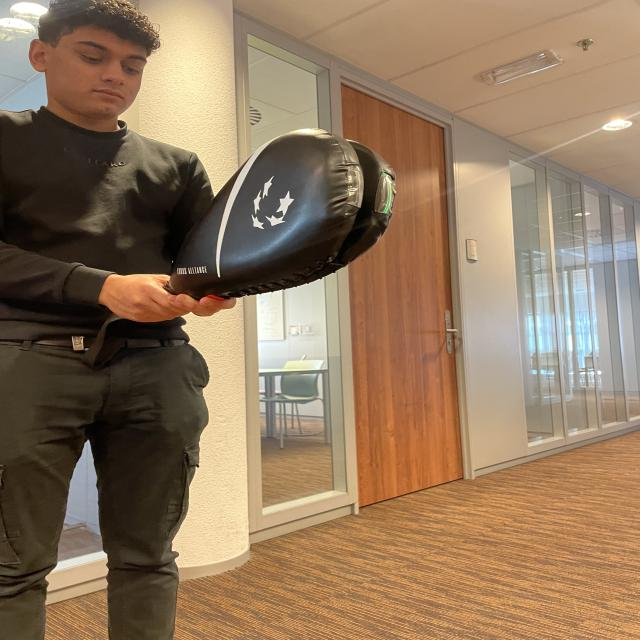paddle: (190, 130, 392, 290)
trigger: (376, 170, 396, 217)
